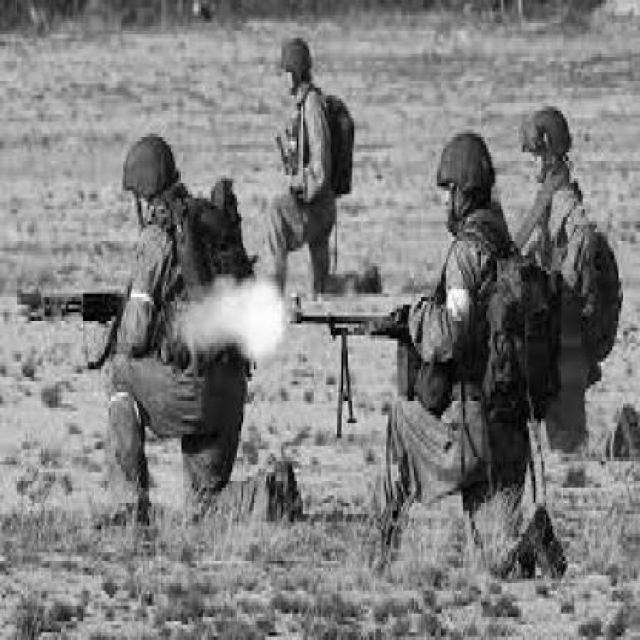Person: (369, 129, 567, 580), (93, 129, 304, 527), (512, 102, 639, 458), (263, 32, 383, 298)
